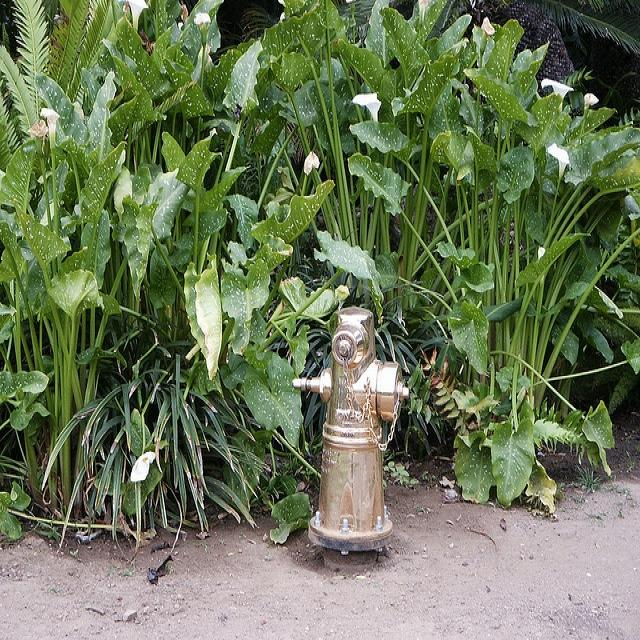fire_hydrant: (282, 311, 403, 560)
